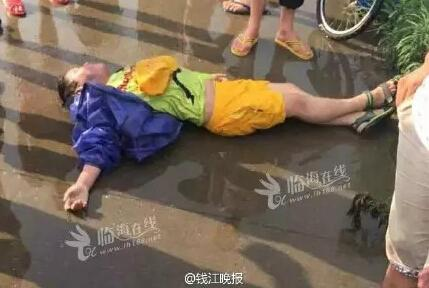fall: (37, 38, 400, 220)
